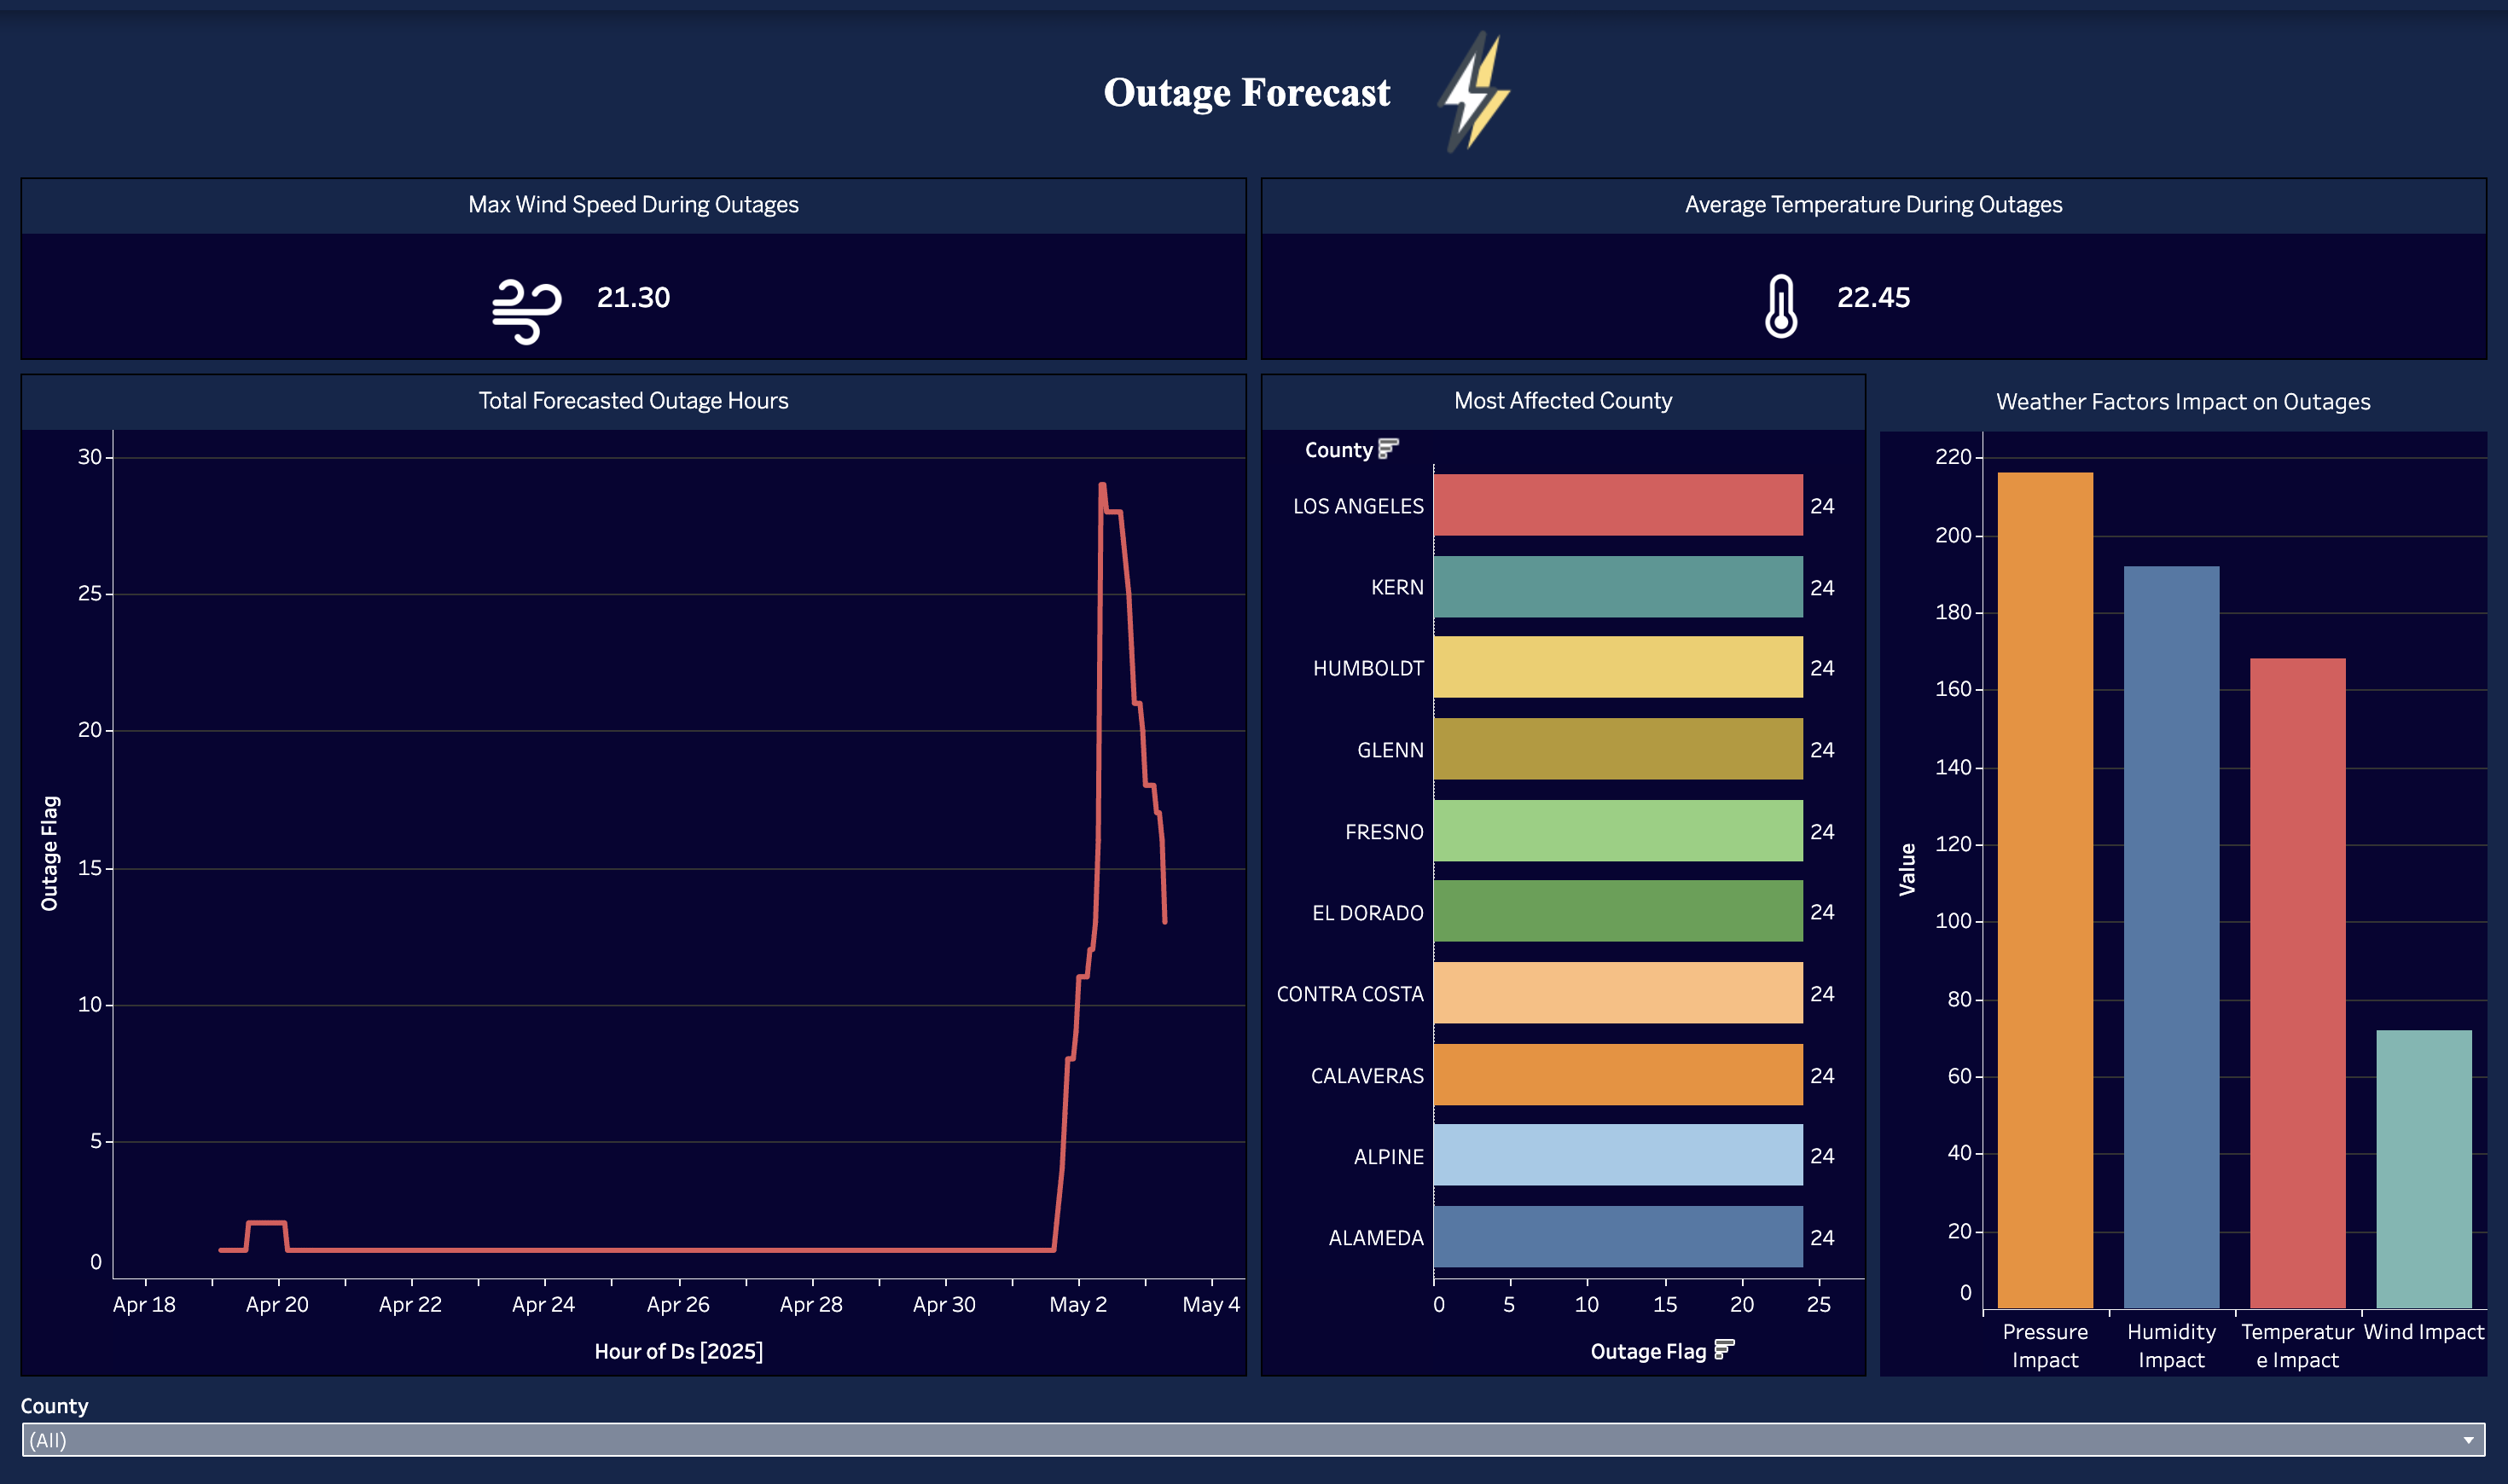

Layout of this report page (visuals, bound fields, positions):
{"tool":"tableau","page":{"name":"Dashboard 1","canvas":[1000,1000],"units":"permille","ordinal":0},"visuals":[{"type":"text","box":[6.4,13.2,550.7,104.5]},{"type":"image","box":[557.1,13.2,436.4,104.5]},{"type":"worksheet","title":"Sheet 3","mark":"Automatic","box":[6.4,117.7,493.5,131.3]},{"type":"worksheet","title":"Sheet 4","mark":"Automatic","box":[499.9,117.7,493.7,131.3]},{"type":"image","box":[696.5,182.3,29.1,60.2]},{"type":"image","box":[194.9,184,36.2,53.5]},{"type":"worksheet","title":"Sheet 1","mark":"Automatic","rows":["outage_flag"],"cols":["ds"],"box":[6.4,249,493.5,680.8]},{"type":"worksheet","title":"Sheet 2","mark":"Automatic","rows":["county"],"cols":["outage_flag"],"box":[499.9,249,246.8,680.8]},{"type":"worksheet","title":"Sheet 9","mark":"Automatic","box":[746.7,249,246.8,680.8]},{"type":"filter","title":"Sheet 3","param":"[federated.1gcilp815hy6p914p38aa0gtid79].[none:county:nk]","box":[6.4,929.8,987.2,57]}]}

Visuals, with their boxes on the dashboard's canvas, which has no fixed pixel size, in thousandths of its width and height (x1, y1, x2, y2). These are canvas units, not pixel positions in the 2508x1484 screenshot, which may show the page scaled, cropped or inside an application window:
text: bbox(6, 13, 557, 118)
image: bbox(557, 13, 994, 118)
"Sheet 3" worksheet: bbox(6, 118, 500, 249)
"Sheet 4" worksheet: bbox(500, 118, 994, 249)
image: bbox(696, 182, 726, 242)
image: bbox(195, 184, 231, 238)
"Sheet 1" worksheet: bbox(6, 249, 500, 930)
"Sheet 2" worksheet: bbox(500, 249, 747, 930)
"Sheet 9" worksheet: bbox(747, 249, 994, 930)
"Sheet 3" filter: bbox(6, 930, 994, 987)
